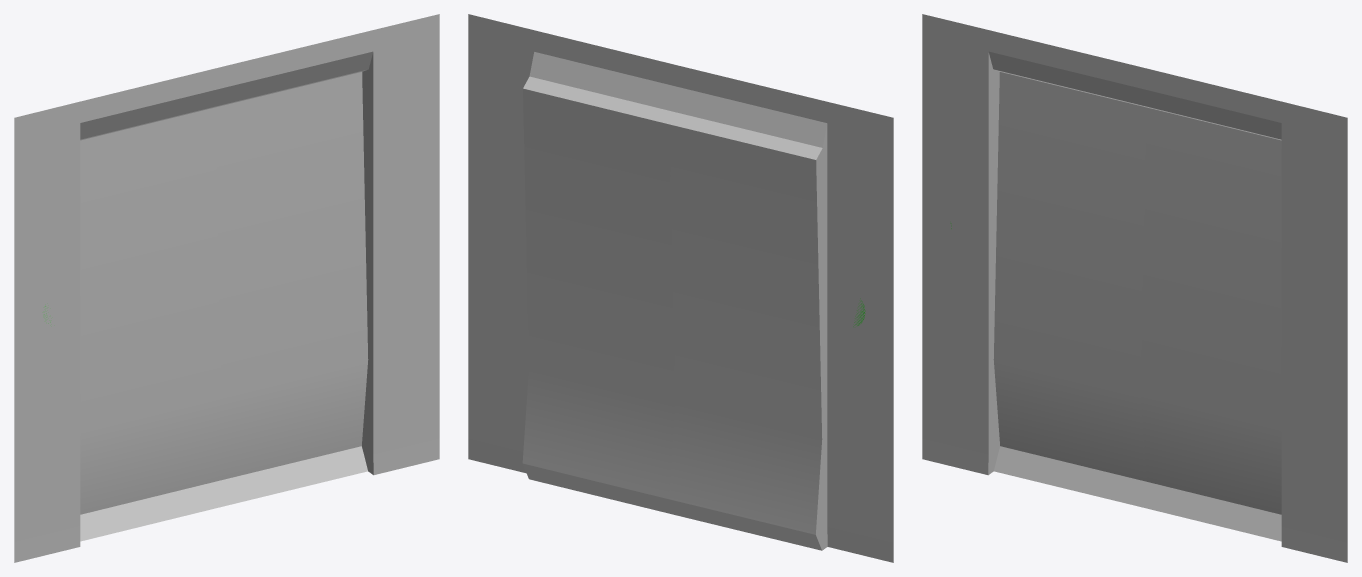
File: Wall.fbx
The picture shows the model from 3 angles, left to right: view 1: azimuth 30°, elevation 25°; view 2: azimuth 150°, elevation 25°; view 3: azimuth 330°, elevation 25°; orthographic projection.
Visible parts, largest first — view 1: Wall1; view 2: Wall1; view 3: Wall1.
Boxes of the visible parts, <box> form: Wall1: <box>14,14,439,562</box>; Wall1: <box>468,14,893,562</box>; Wall1: <box>922,14,1347,562</box>.
Bounding box in the file's own units: 400 × 400 × 19.44.
